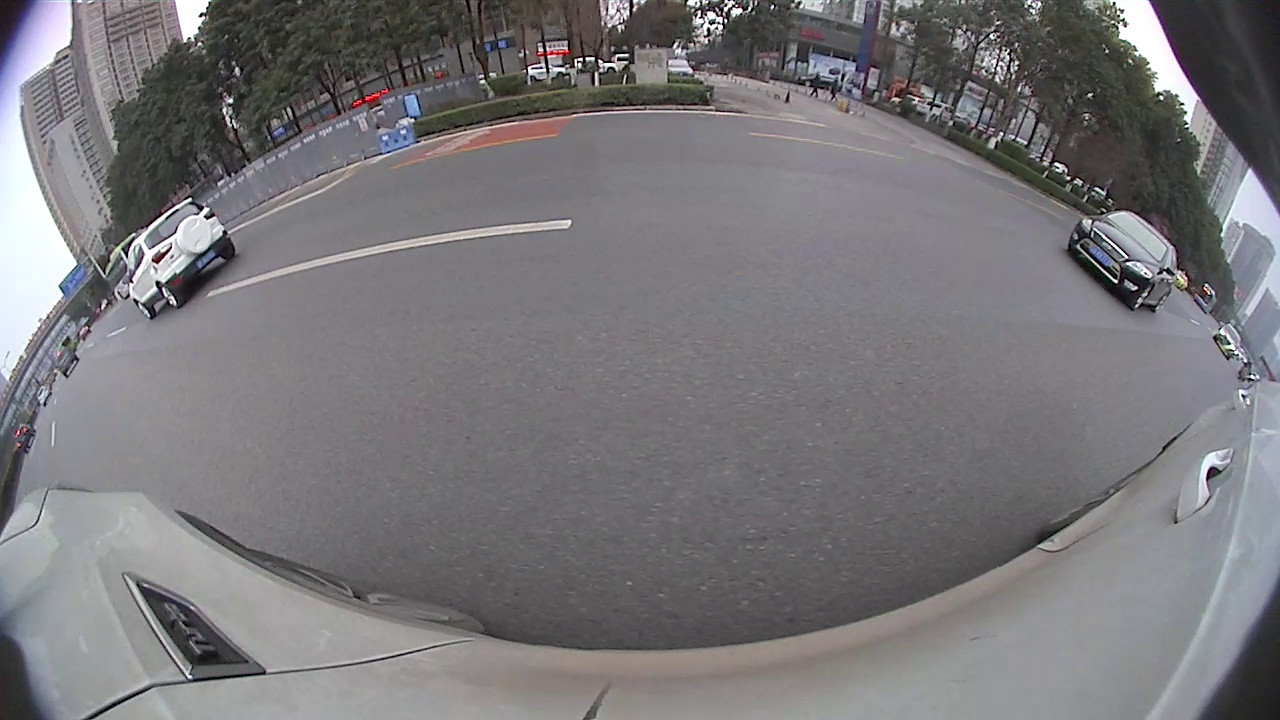bus: (102, 228, 150, 301)
car: (126, 196, 237, 319), (1067, 208, 1179, 313), (1213, 321, 1244, 361)
front: (1134, 286, 1152, 310), (136, 301, 155, 318)
rear: (159, 286, 181, 307), (1152, 296, 1169, 313)
